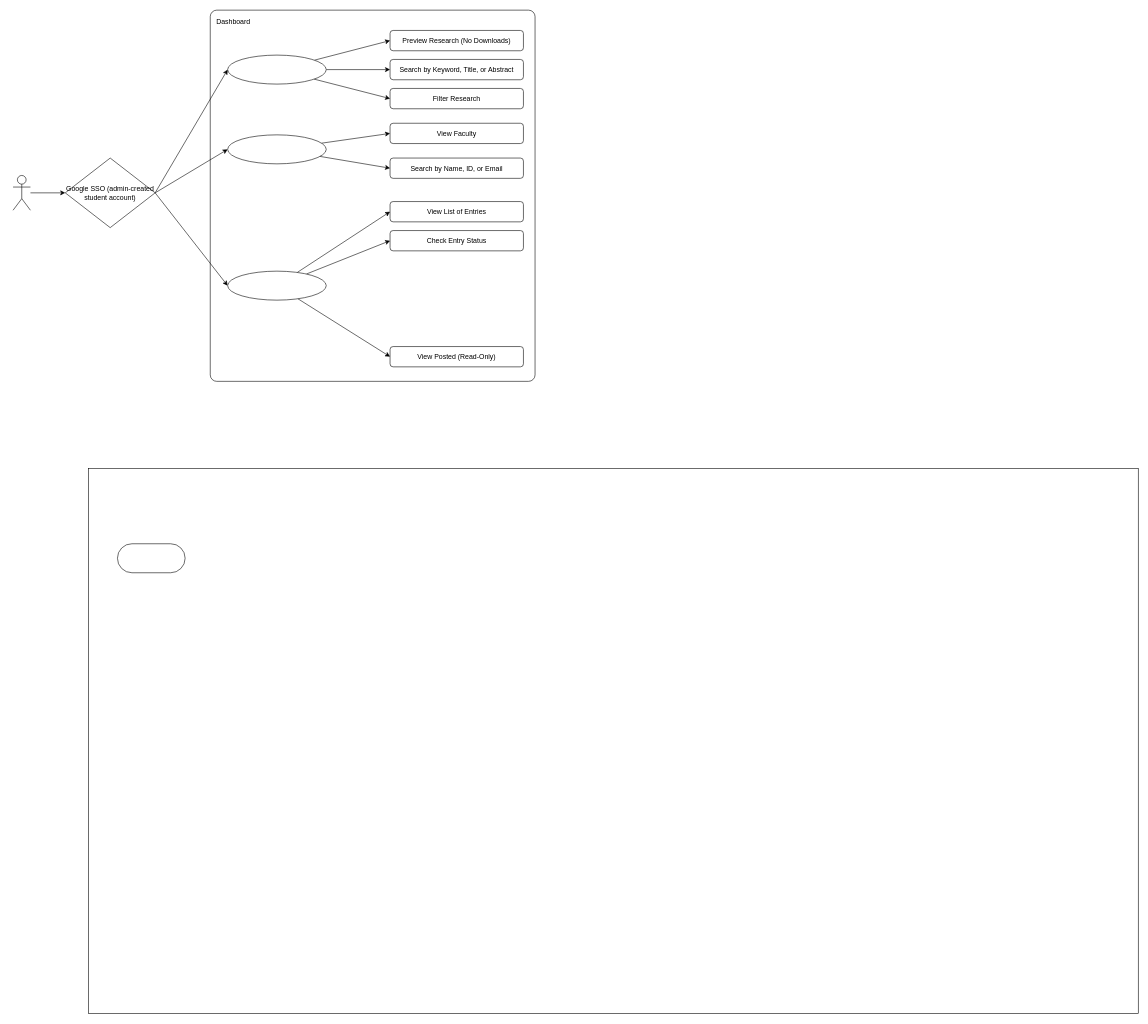
The diagram is 1148 pixels wide and 1024 high, and some of its shapes have lost their labels. Each missing label, with the centre of its shape:
Browse Posted Research: (276,69)
Faculty View: (276,149)
My Research: (276,285)
Start: (151,558)
Student: (21,192)
